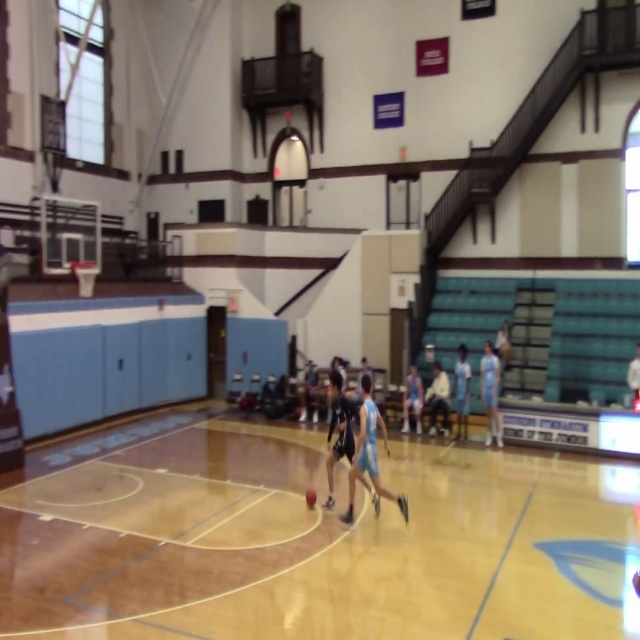Basketball: (632, 569, 640, 602), (306, 487, 317, 508)
